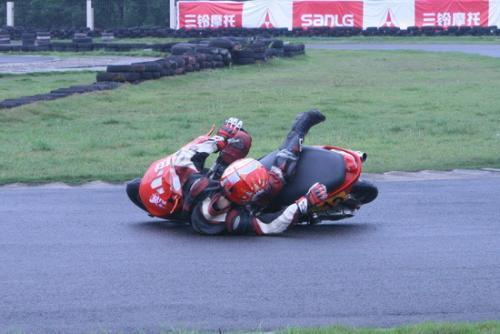Fall-Detected: (127, 96, 359, 243)
